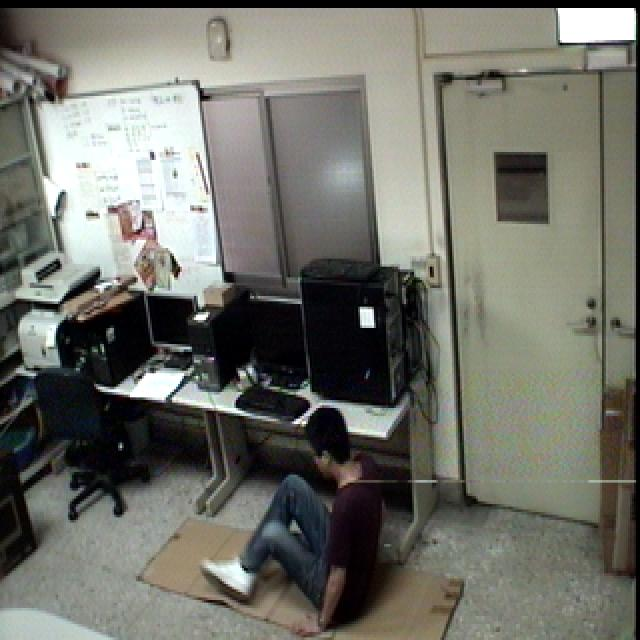sit: (196, 399, 398, 640)
